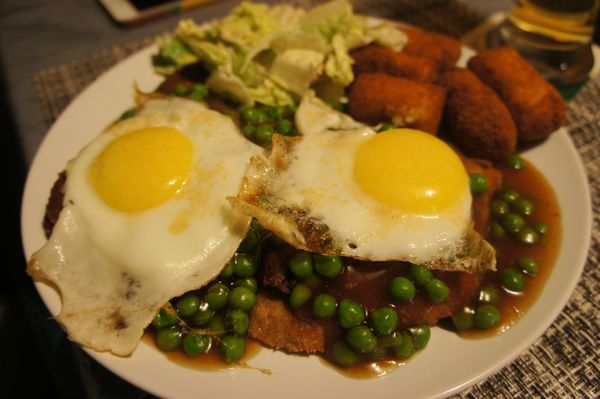pizza: (458, 1, 599, 89)
